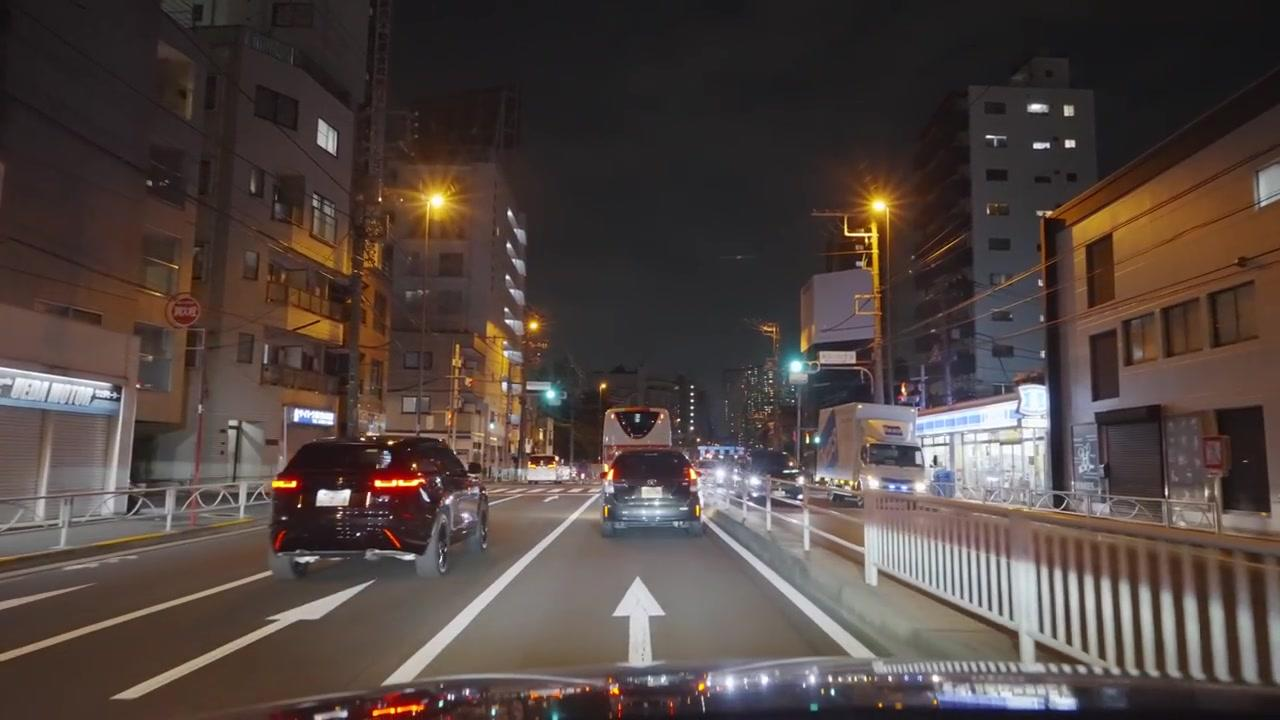bus: (810, 402, 926, 502), (599, 407, 675, 477)
car: (267, 435, 490, 581), (600, 447, 703, 538), (736, 452, 799, 504), (769, 462, 806, 506)
traffic light: (543, 383, 561, 406)
truck: (809, 402, 929, 500)
